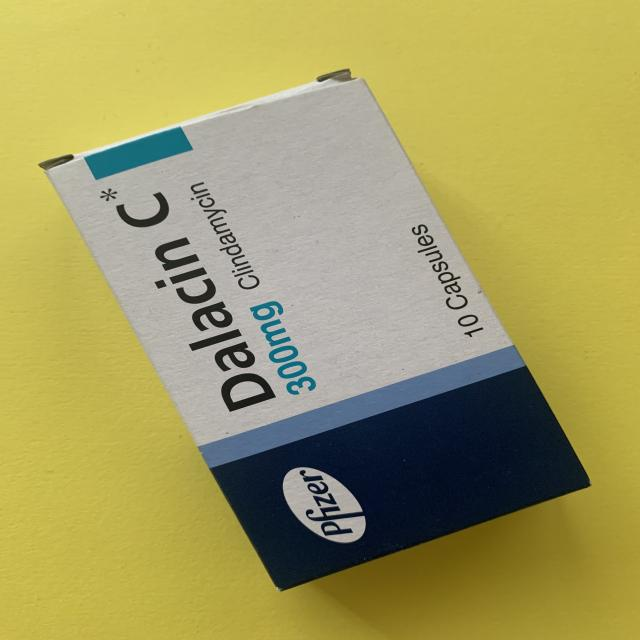medicine_packaging: (28, 61, 626, 610)
